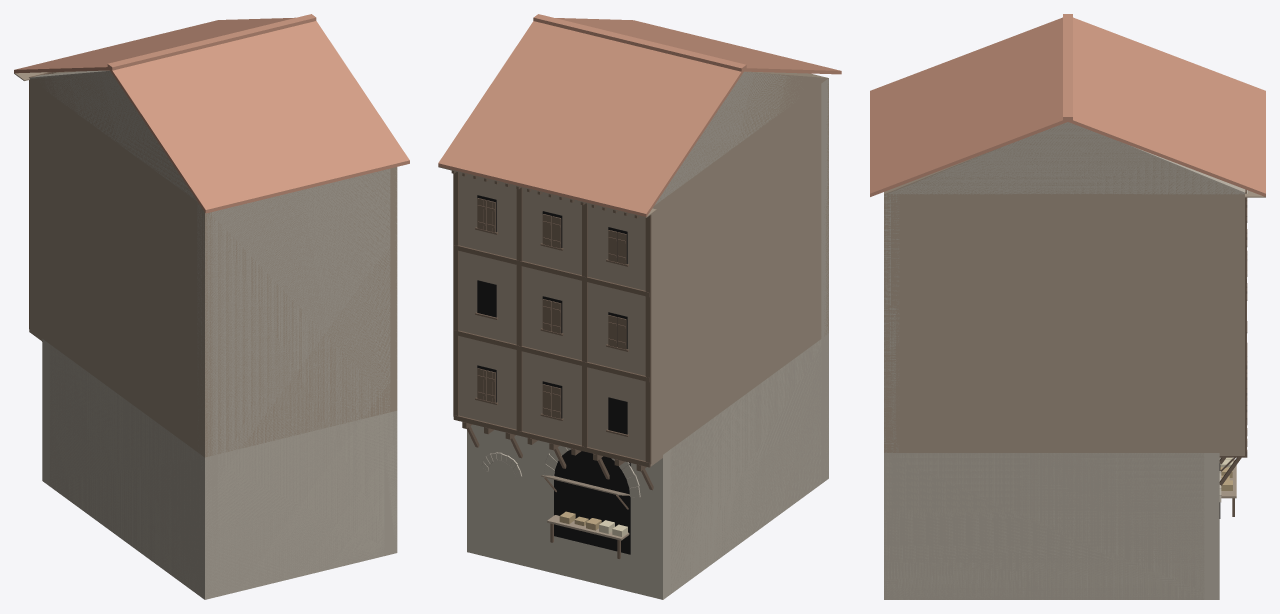
Rendered from casa-82-3-legno.glb.
The picture shows the model from 3 angles, left to right: view 1: azimuth 30°, elevation 25°; view 2: azimuth 150°, elevation 25°; view 3: azimuth 270°, elevation 25°; orthographic projection. The views are drawn at different scales.
Parts seen in each view (by area): view 1: vicino, lontano; view 2: vicino, lontano, aperta; view 3: vicino, lontano, aperta.
Boxes of the visible parts, x1,y1,x2,y2 form: vicino: (14,14,409,599); lontano: (14,67,409,598); vicino: (438,14,841,599); lontano: (438,69,841,599); aperta: (541,475,629,558); vicino: (870,14,1265,599); lontano: (870,121,1265,599); aperta: (1220,457,1236,516).
Bounding box in the file's own units: 8.7 × 19.17 × 14.15.
